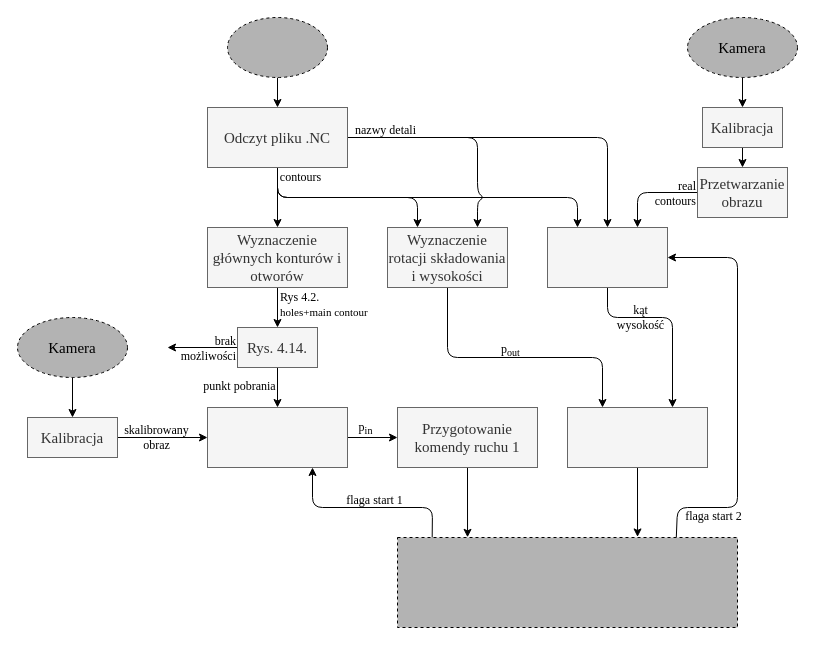
Some shapes in this 815 by 645 pixel diagram are drawn without their labels. Here are the shapes that lost their labels. From the top down, the centre of each, then its label:
At [277,47]: "G-code".
At [607,257]: "Kontrola jakości".
At [277,437]: "Transformacja punktu pobrania".
At [637,437]: "Przygotowanie komendy ruchu 2".
At [567,582]: "Program manipulatora".
